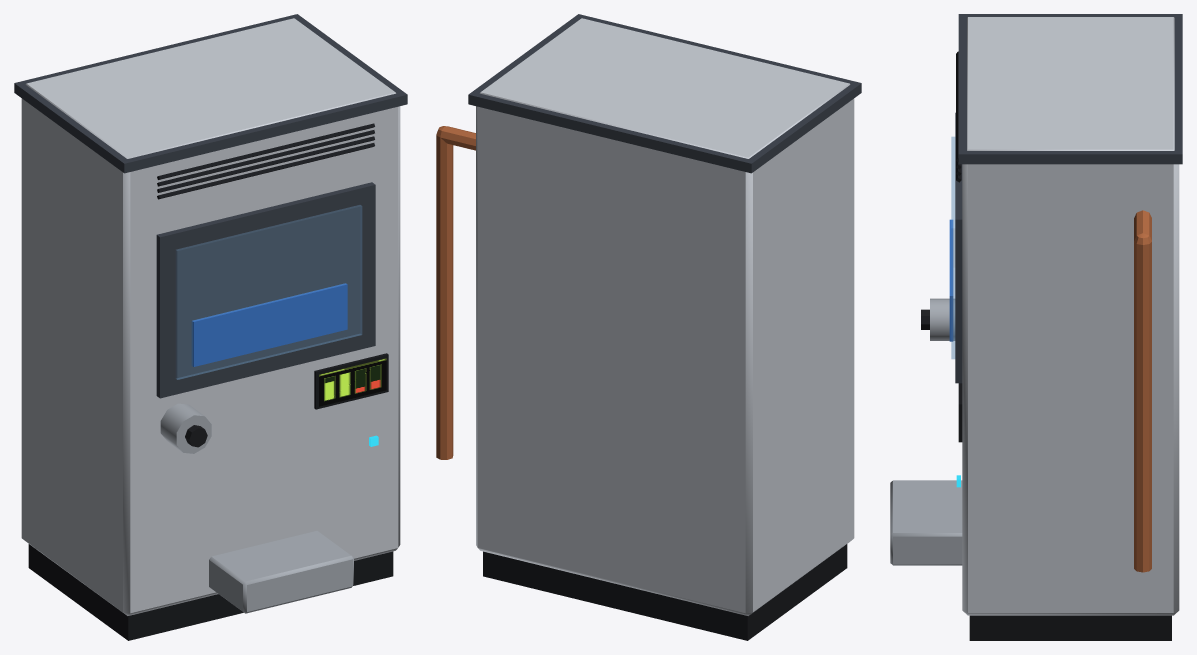
The model's file is scrubber_humidity_control_unit.glb.
The picture shows the model from 3 angles, left to right: view 1: azimuth 30°, elevation 25°; view 2: azimuth 150°, elevation 25°; view 3: azimuth 270°, elevation 25°; orthographic projection.
Visible parts, largest first — view 1: scrubber_humidity_control_unit; view 2: scrubber_humidity_control_unit; view 3: scrubber_humidity_control_unit.
Part boxes in pixels (x1,y1,x2,y2): scrubber_humidity_control_unit: (14, 14, 407, 640); scrubber_humidity_control_unit: (436, 14, 861, 640); scrubber_humidity_control_unit: (890, 14, 1182, 640).
Size of the model in its own units: 1.09 by 1.5 by 0.81.
Materials: 10 (1 with a texture image).
